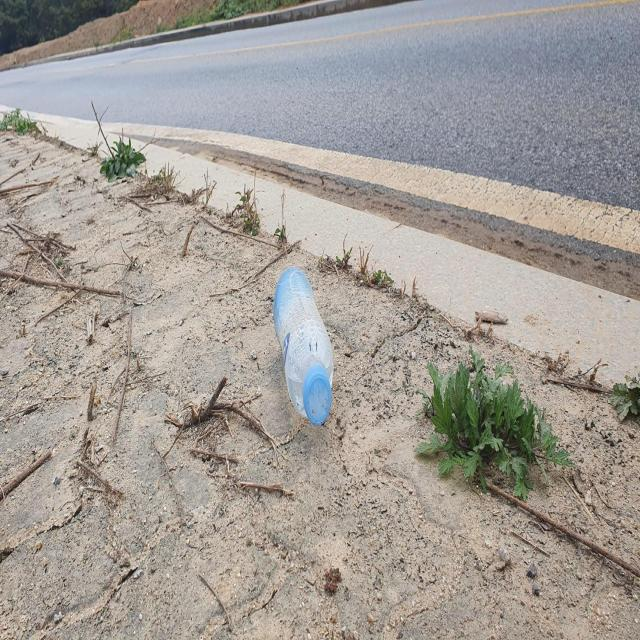plastic: (273, 266, 333, 425)
